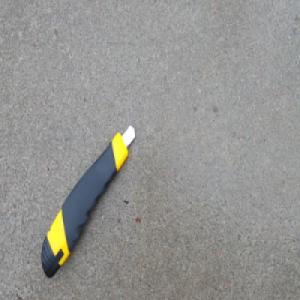Cutter: (40, 123, 136, 278)
